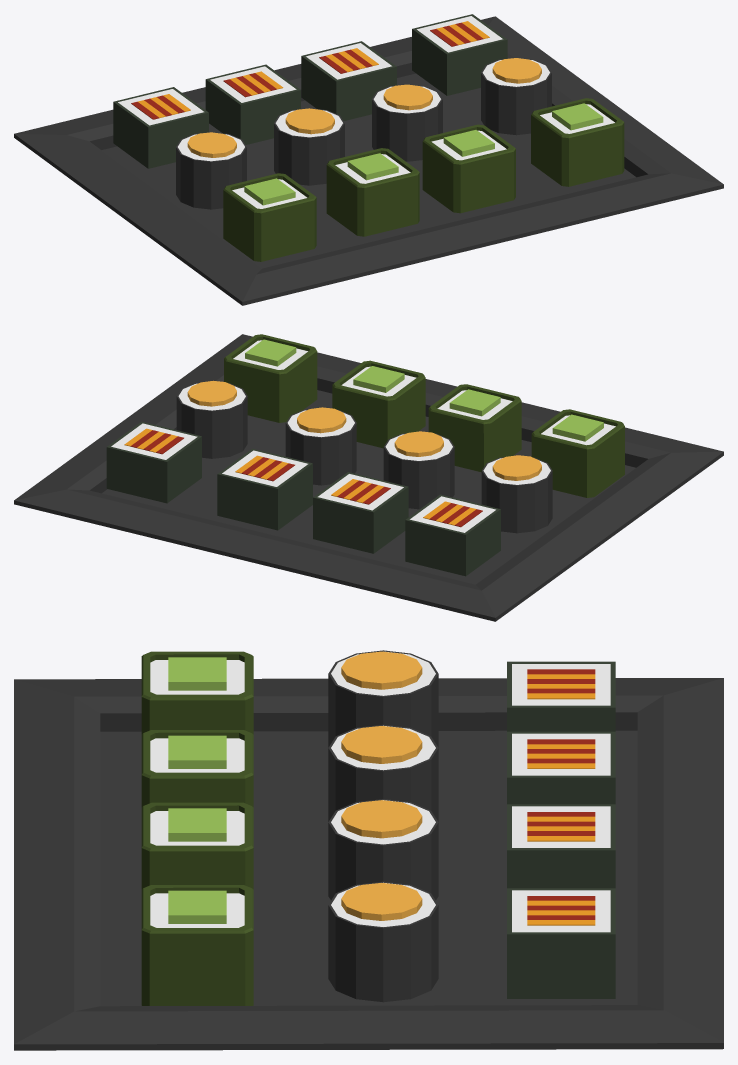
File: SushiStack_1.fbx
3 views of the same model, one above another, from view 1: azimuth 30°, elevation 25°; view 2: azimuth 150°, elevation 25°; view 3: azimuth 270°, elevation 25° (orthographic). The views are drawn at different scales.
Visible parts, largest first — view 1: SushiStack_1; view 2: SushiStack_1; view 3: SushiStack_1.
Boxes of the visible parts, bbox=[...] form: SushiStack_1: bbox=[14, 14, 723, 305]; SushiStack_1: bbox=[14, 334, 723, 621]; SushiStack_1: bbox=[14, 650, 723, 1050].
Size of the model in its own units: 84.55 by 10.46 by 69.49.
